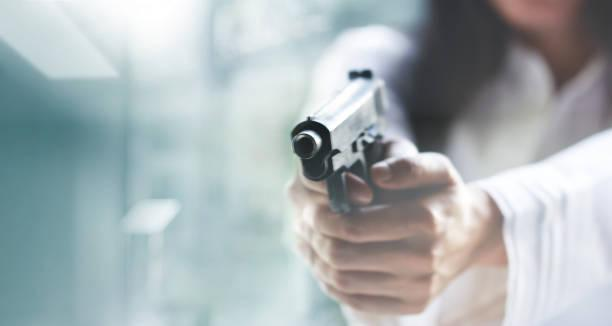weapon: (286, 63, 413, 216)
